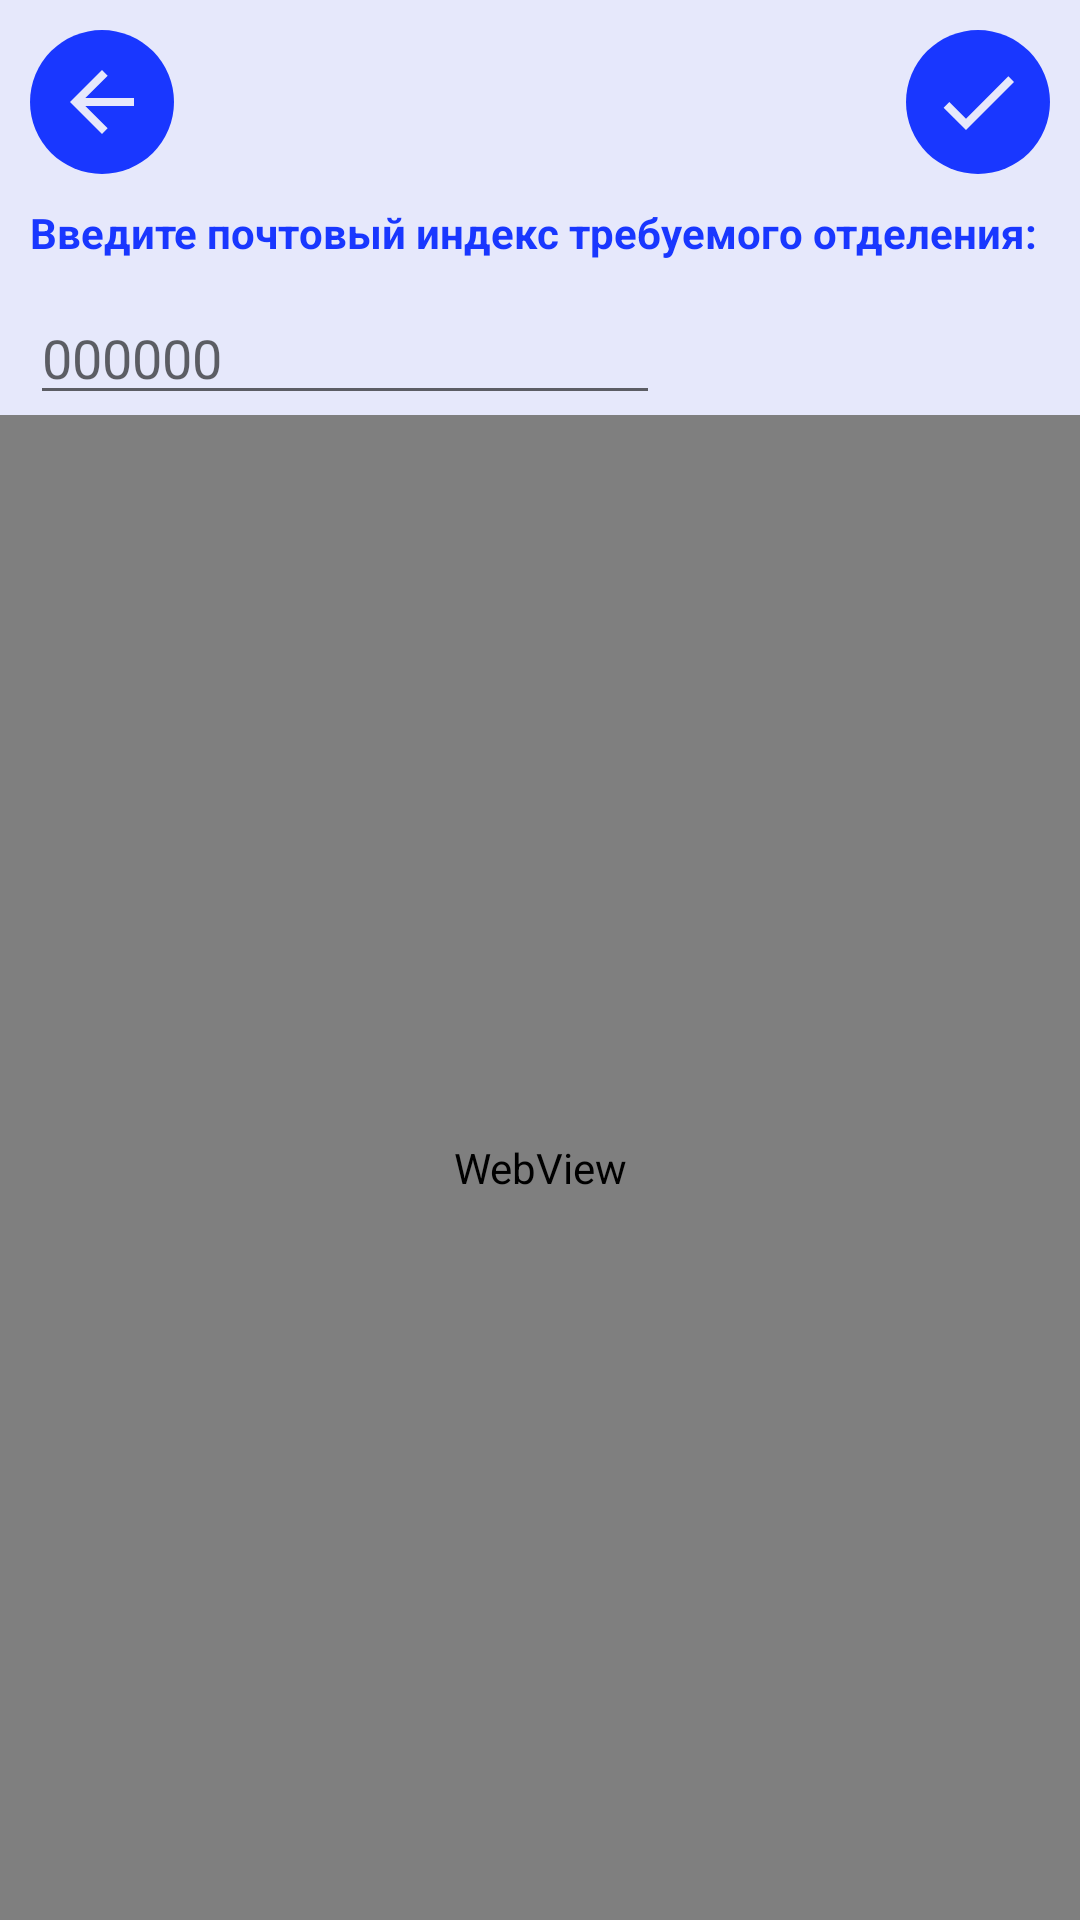

Icons on this 1080px×1920px Android screen, each with the point to tap as [x,y]:
arrow: [102,102]
check: [978,102]
